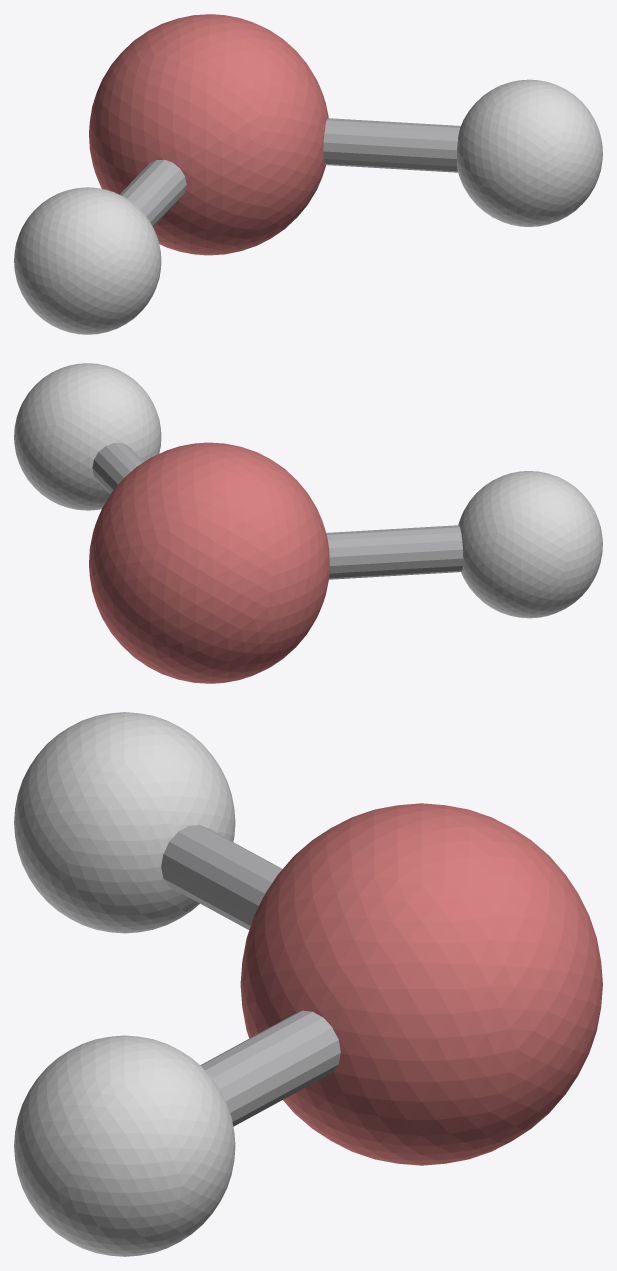
The model's file is water.glb.
3 renders of one model, top to bottom at view 1: azimuth 30°, elevation 25°; view 2: azimuth 150°, elevation 25°; view 3: azimuth 270°, elevation 25°, orthographic. The views are drawn at different scales.
Parts seen in each view (by area): view 1: O_0, H_2, H_1, bond_0, bond_1; view 2: O_0, H_2, H_1, bond_1, bond_0; view 3: O_0, H_1, H_2, bond_0, bond_1.
Part boxes in pixels (left/top/right/bottom): O_0: left=89, top=14, right=328, bottom=255; H_2: left=14, top=187, right=161, bottom=334; H_1: left=457, top=79, right=602, bottom=226; bond_0: left=323, top=118, right=460, bottom=172; bond_1: left=119, top=159, right=186, bottom=226; O_0: left=89, top=442, right=329, bottom=683; H_2: left=458, top=471, right=602, bottom=618; H_1: left=14, top=363, right=161, bottom=510; bond_1: left=326, top=525, right=463, bottom=579; bond_0: left=92, top=443, right=143, bottom=493; O_0: left=240, top=803, right=602, bottom=1165; H_1: left=14, top=1035, right=235, bottom=1256; H_2: left=14, top=712, right=235, bottom=933; bond_0: left=200, top=1010, right=340, bottom=1126; bond_1: left=161, top=824, right=282, bottom=929.
Size of the model in its own units: 1.96 by 0.72 by 1.17.
